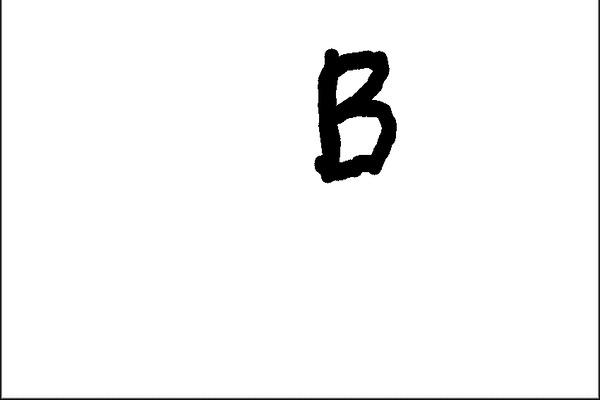B: (302, 40, 402, 187)
